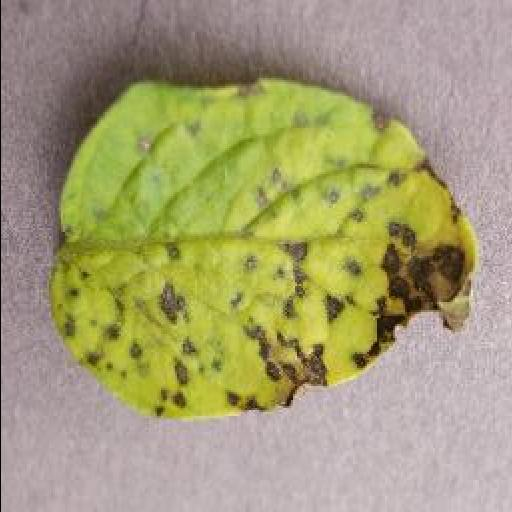disease_tomato: (46, 74, 478, 419)
